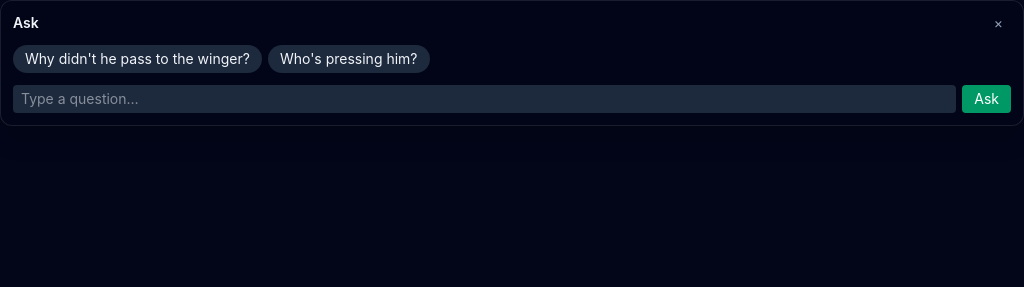
Test case: the Ask panel › says the analysts are offline when the stream ends without an answer
Click the button "Who's pressing him?": click(349, 59) [268, 45, 430, 73]
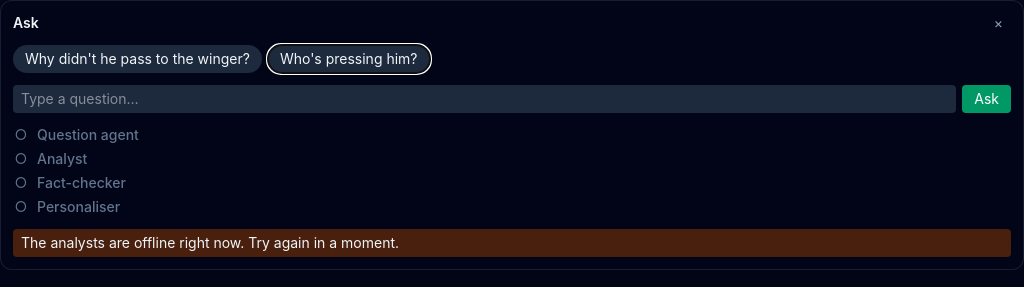
Expected: the message reads "The analysts are offline right now. Try again in a moment.", [21, 234, 399, 251]
